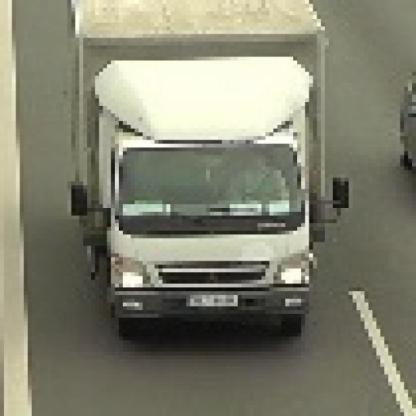truck: (76, 1, 350, 334)
